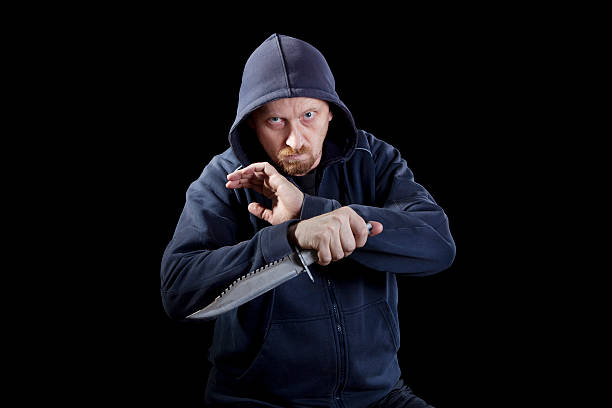knife: (183, 217, 375, 322)
